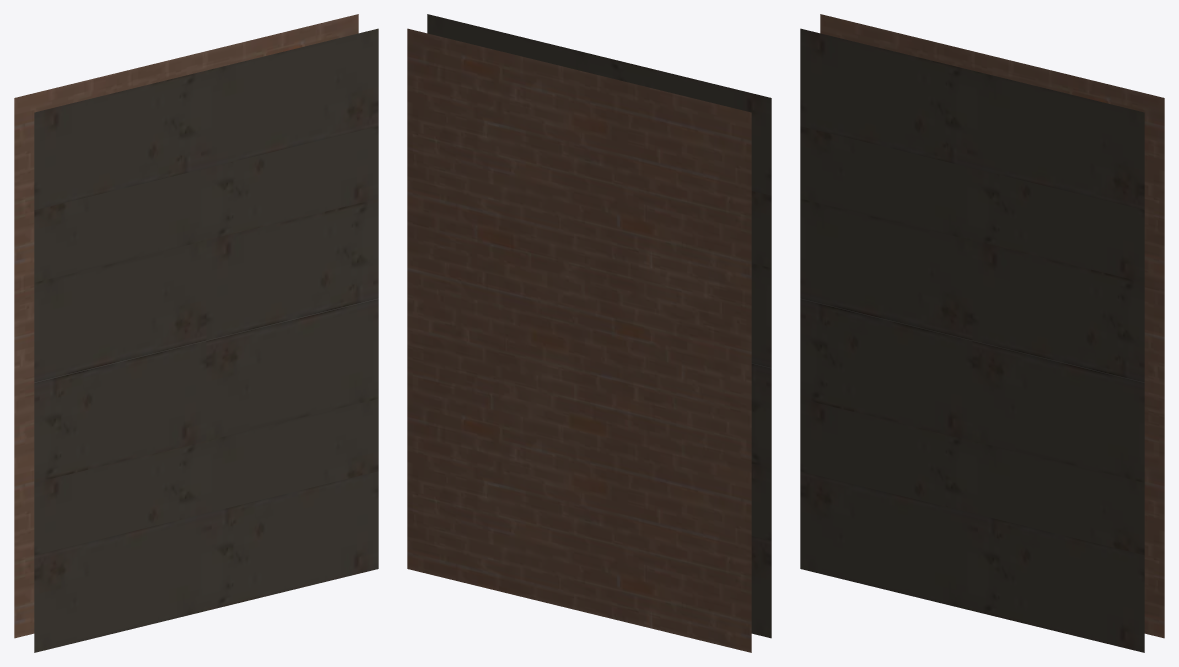
Rendered from Metal_Plain_3.glb.
The picture shows the model from 3 angles, left to right: view 1: azimuth 30°, elevation 25°; view 2: azimuth 150°, elevation 25°; view 3: azimuth 330°, elevation 25°; orthographic projection.
Parts seen in each view (by area): view 1: Metal_Plain_3; view 2: Metal_Plain_3; view 3: Metal_Plain_3.
Part boxes in pixels (x1,y1,x2,y2): Metal_Plain_3: [14, 14, 378, 652]; Metal_Plain_3: [407, 14, 771, 652]; Metal_Plain_3: [800, 14, 1164, 652].
Bounding box in the file's own units: 2 × 3 × 0.2.
2 materials, 2 textured.
